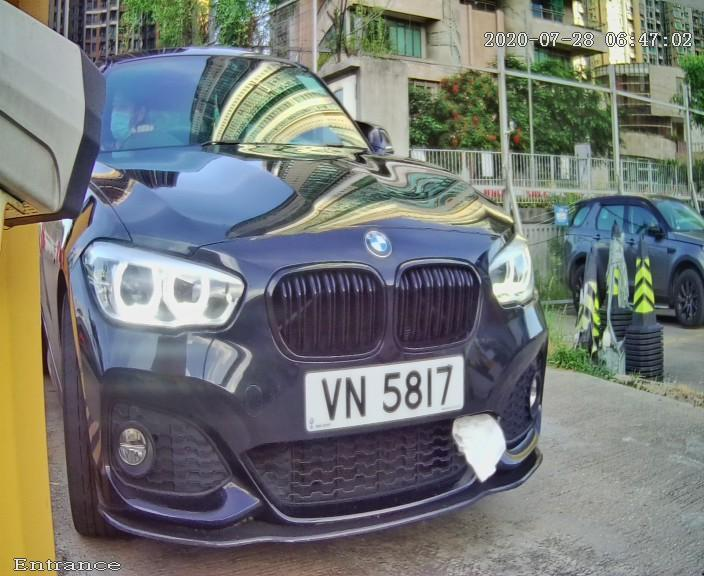privatecar: (10, 19, 642, 574)
